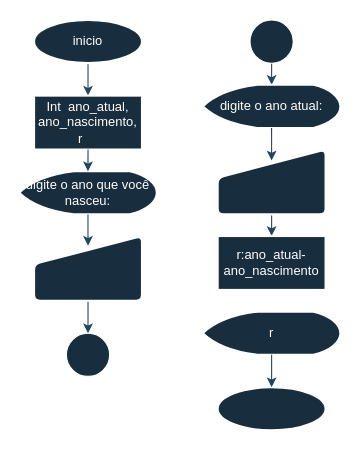
Image size: 361x449. Some labels were removed from this diagram. Here are the shapes that lost their labels. From the top down, the centre of each, then its label:
(x=271, y=181): ano_atual
(x=87, y=267): ano_nascimento
(x=271, y=408): fim
